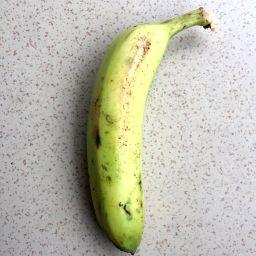banana: (83, 5, 218, 256)
